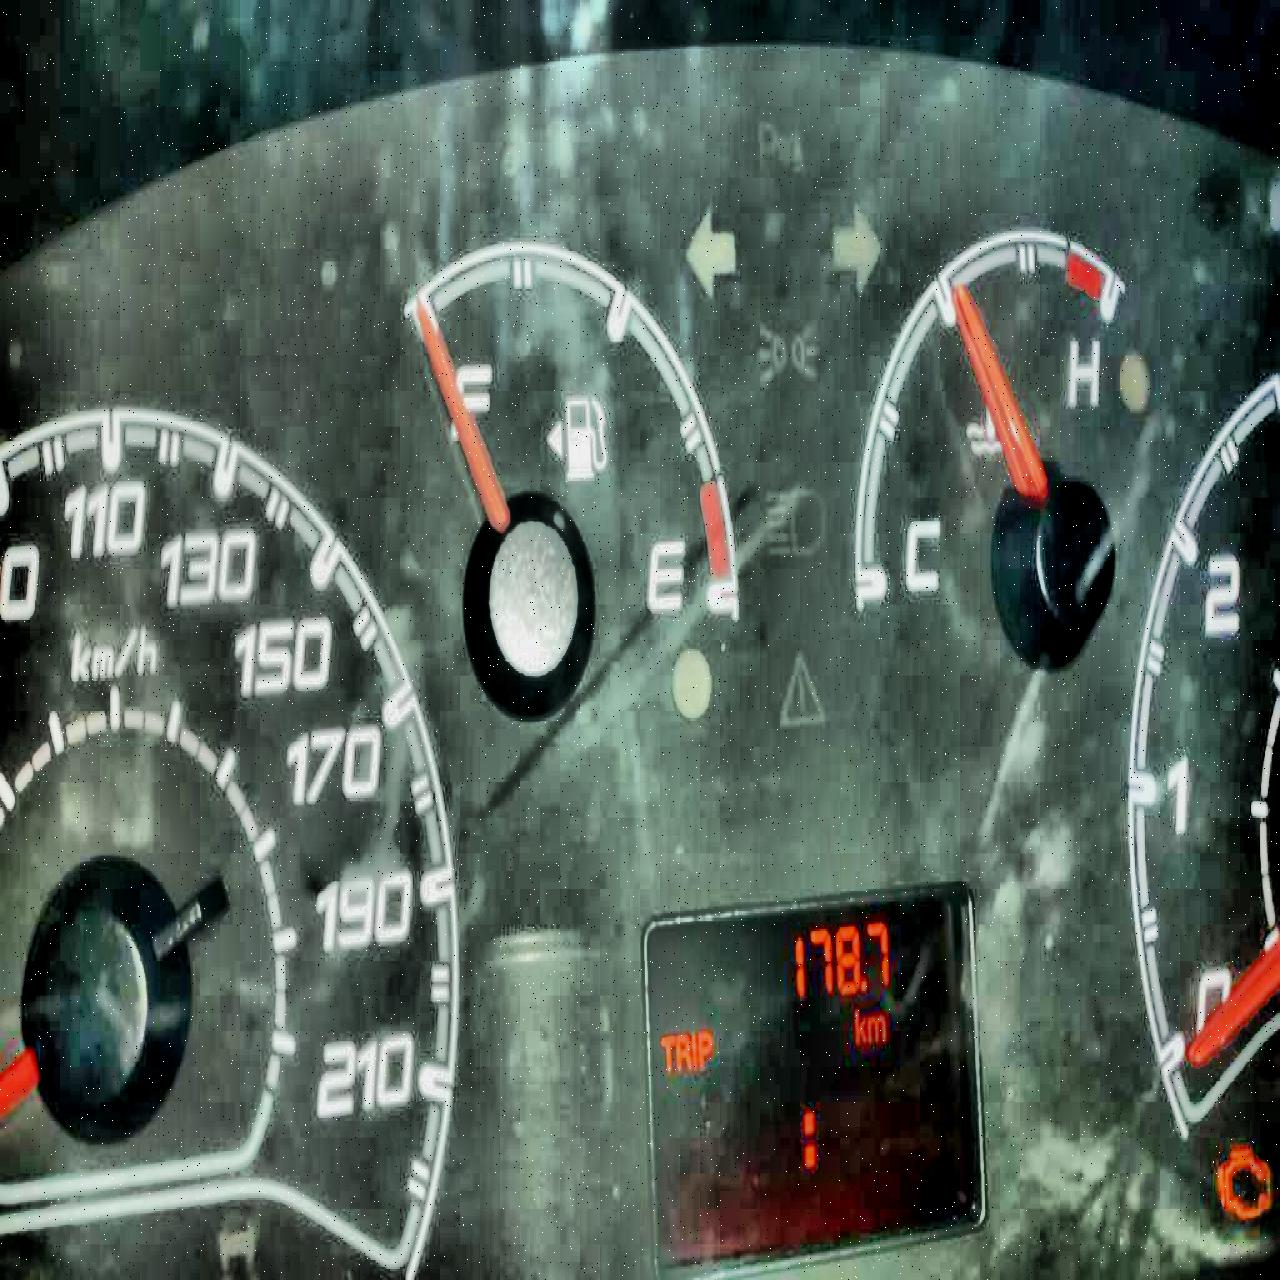-: (859, 973, 866, 989)
1: (791, 931, 806, 995)
7: (808, 925, 833, 994), (866, 920, 890, 987)
8: (835, 922, 860, 994)
X: (802, 1107, 817, 1169), (658, 1029, 675, 1074), (675, 1029, 690, 1074), (697, 1027, 713, 1069), (866, 1014, 885, 1042), (852, 1005, 866, 1042), (690, 1029, 697, 1071)
odometer: (640, 878, 989, 1278)
